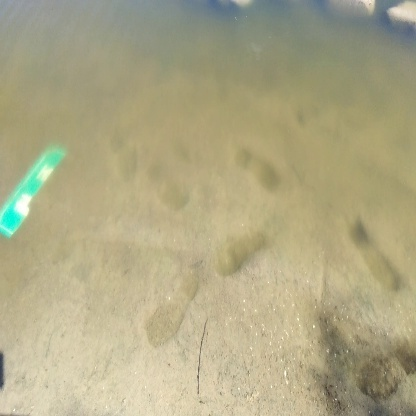plastic-garbage: (3, 135, 70, 245)
